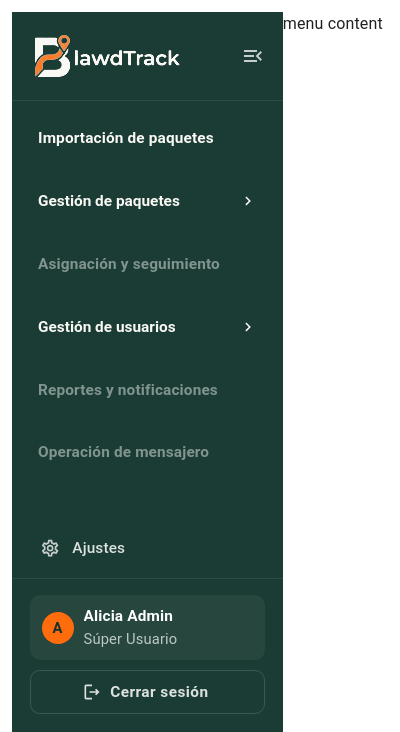
Scenario: MainMenuLayout sidebar › starts with every group closed and opens or closes one from its title
What coordinates should you click on to do the following:
click the button "Gestión de usuarios"
I would click on:
 (147, 327)
Its box is left=26, top=305, right=269, bottom=349.
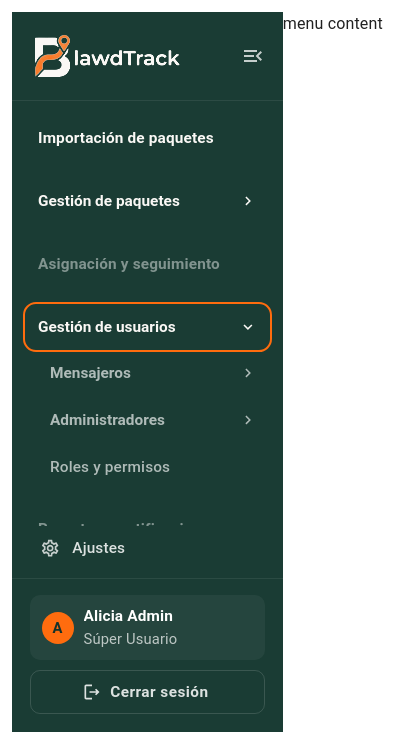
Expected: the button "Gestión de usuarios" is expanded
What coordinates should you click on to do the following:
click the button "Gestión de usuarios"
I would click on:
 (147, 327)
Its box is left=26, top=305, right=269, bottom=349.
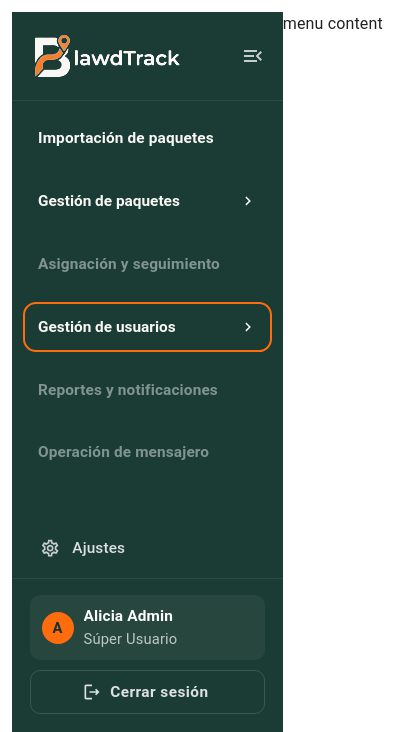
Expected: the button "Gestión de usuarios" is collapsed, left=26, top=305, right=269, bottom=349
